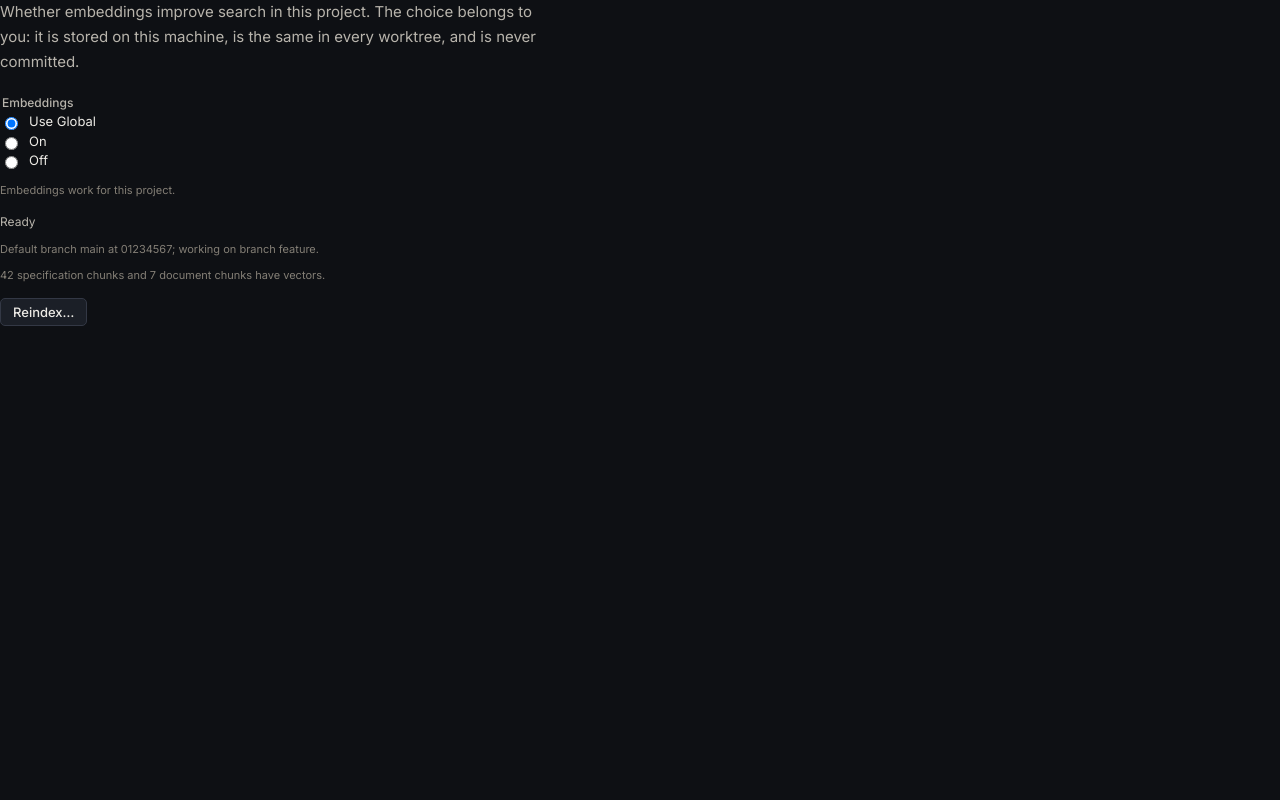
Test: Project Indexing section › SET-FR-WZPS: a refused Reindex keeps the dialog open and says why
What coordinates should you click on to do the following:
click the button "Reindex…"
I would click on:
 (44, 312)
Its box is x1=0 y1=298 x2=88 y2=326.
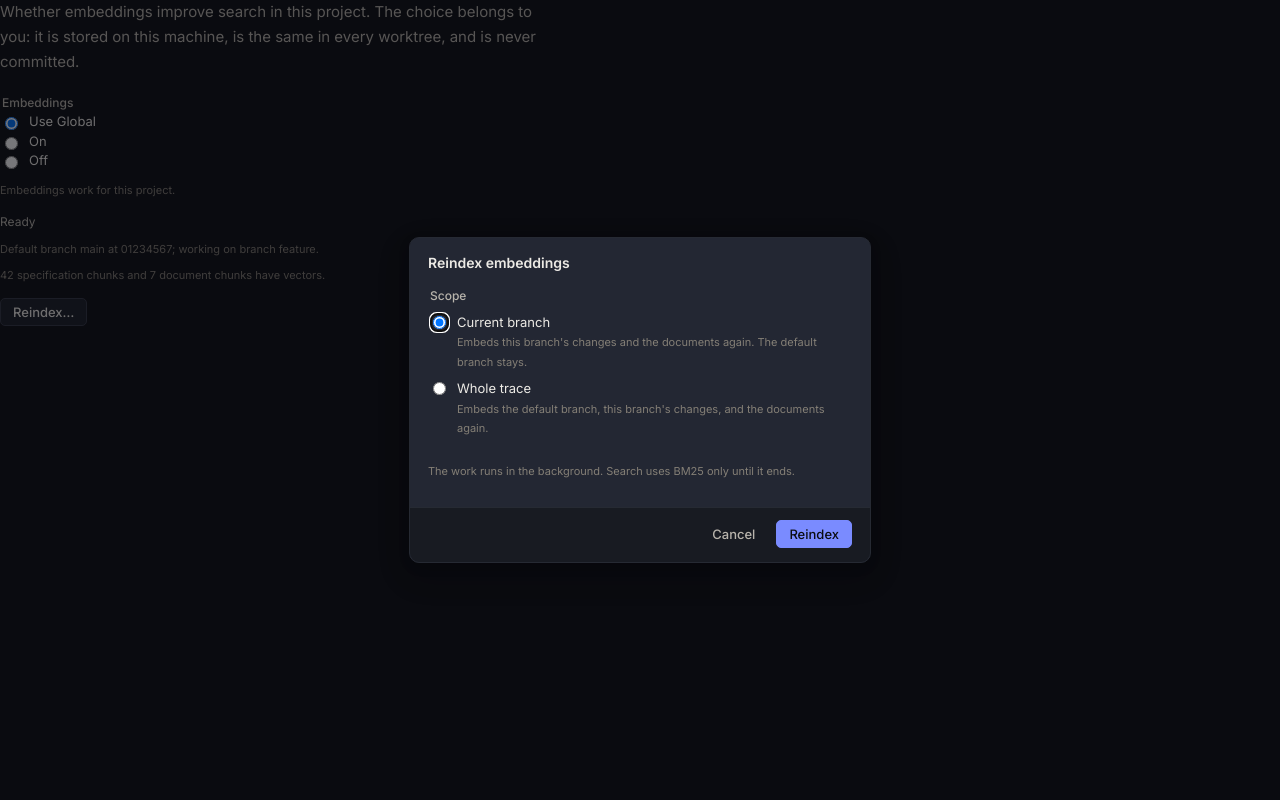
What coordinates should you click on to do the following:
click the button "Reindex"
I would click on:
 (814, 534)
Its box is x1=776 y1=520 x2=852 y2=548.
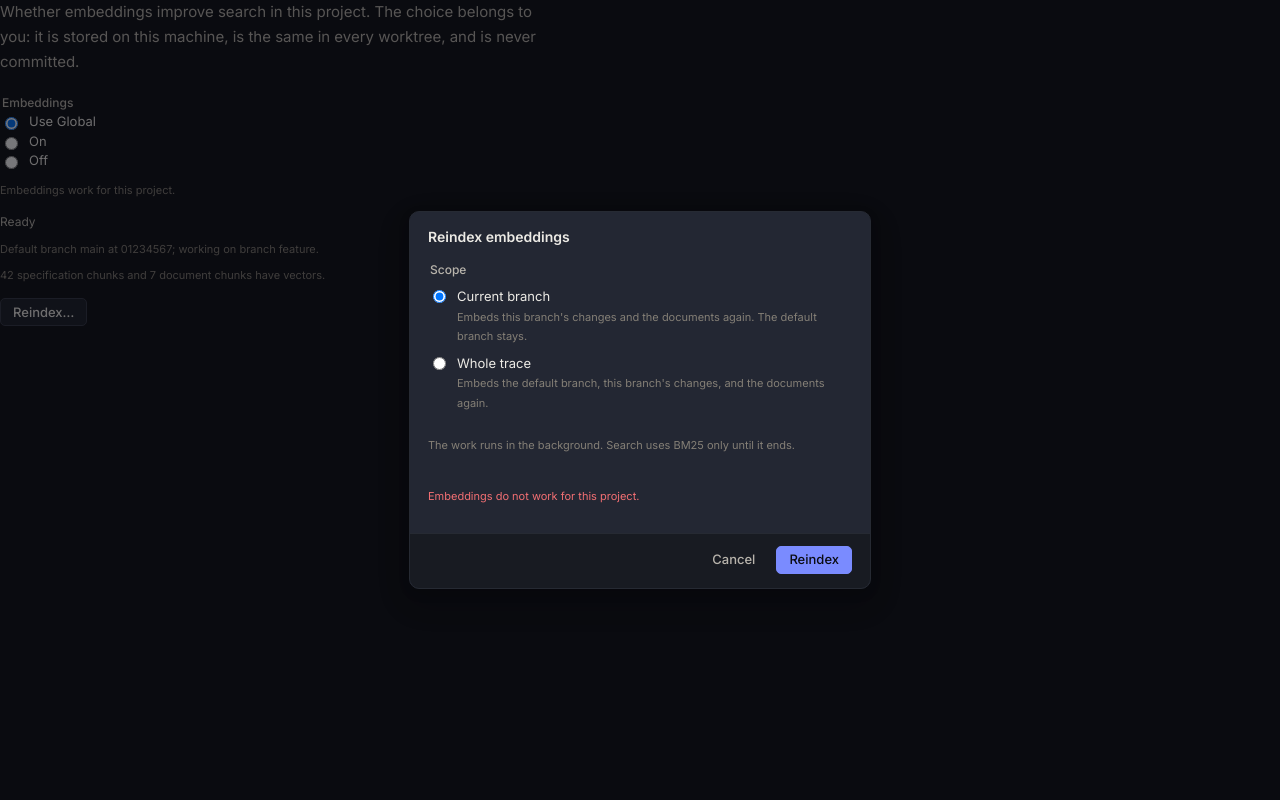
Expected: the element with test id "reindex-dialog" is shown, x1=410 y1=212 x2=870 y2=588
Expected: the message shows "do not work for this project", x1=428 y1=489 x2=639 y2=503
